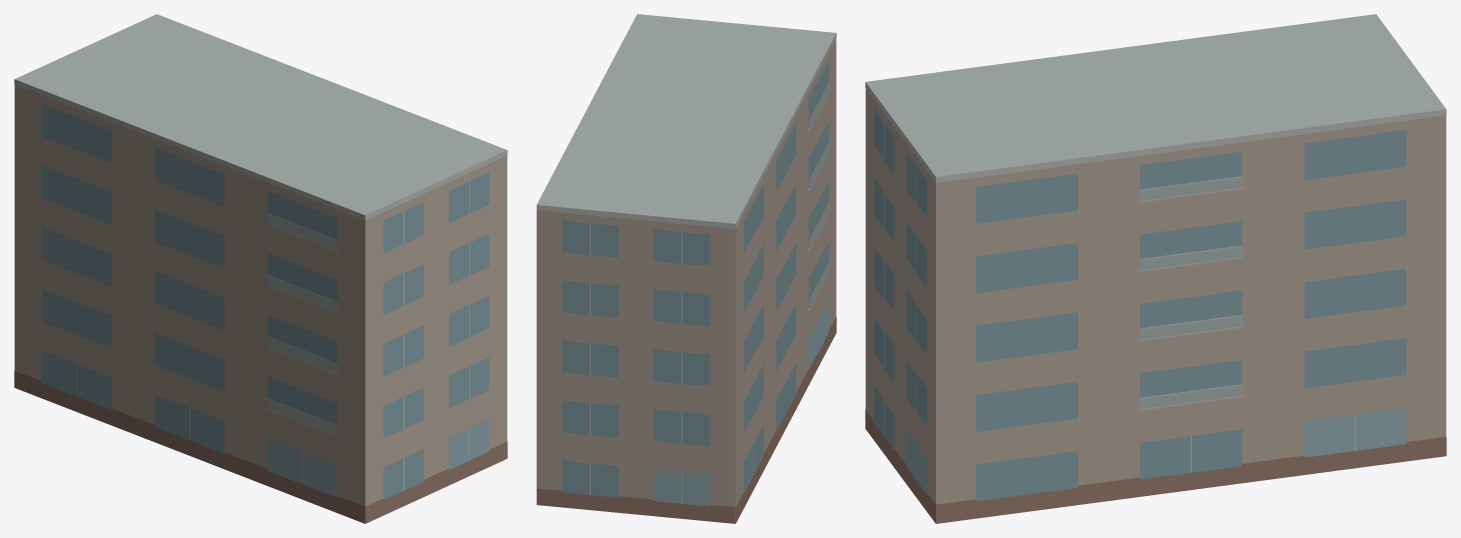
File: survey-upis-32978457.glb
The picture shows the model from 3 angles, left to right: view 1: azimuth 30°, elevation 25°; view 2: azimuth 150°, elevation 25°; view 3: azimuth 270°, elevation 25°; orthographic projection. The views are drawn at different scales.
Parts seen in each view (by area): view 1: survey-upis-32978457.tmp; view 2: survey-upis-32978457.tmp; view 3: survey-upis-32978457.tmp.
Part boxes in pixels (<box>): survey-upis-32978457.tmp: <box>14,14,507,523</box>; survey-upis-32978457.tmp: <box>536,14,836,523</box>; survey-upis-32978457.tmp: <box>865,14,1446,523</box>.
Bounding box in the file's own units: 14.22 × 14.1 × 21.42.
